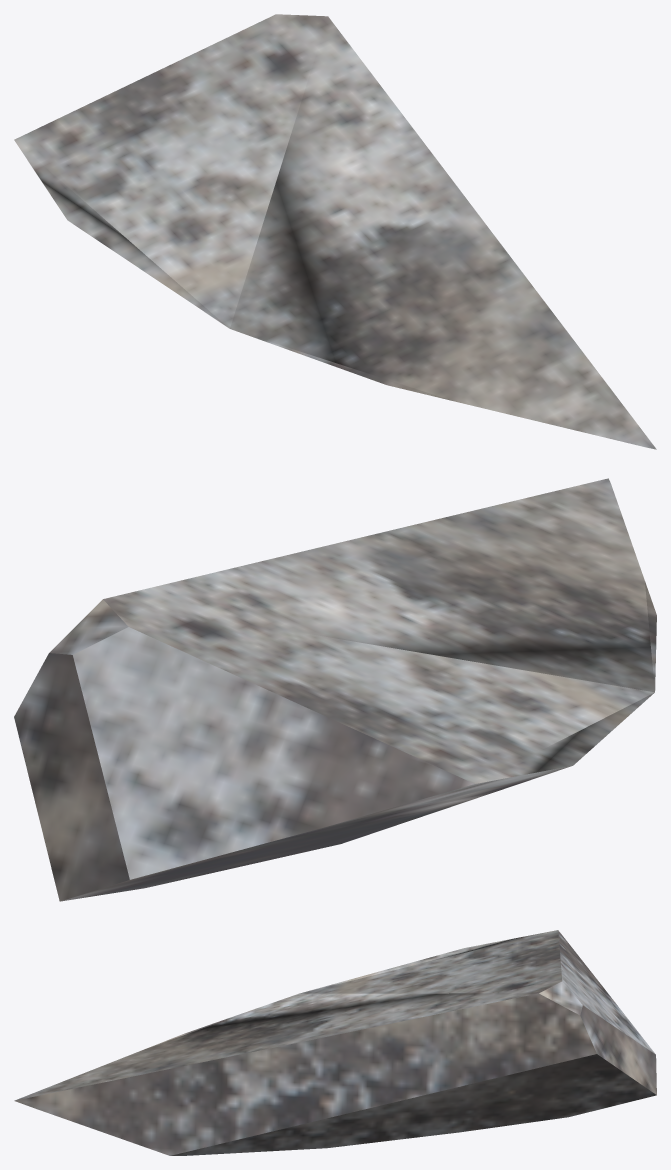
The model's file is Asteroid_Large_001_02_012_03_003.fbx.
3 views of the same model, one above another, from view 1: azimuth 30°, elevation 25°; view 2: azimuth 150°, elevation 25°; view 3: azimuth 270°, elevation 25° (orthographic). The views are drawn at different scales.
Visible parts, largest first — view 1: Asteroid_Large_001_02_012_03_003; view 2: Asteroid_Large_001_02_012_03_003; view 3: Asteroid_Large_001_02_012_03_003.
Part boxes in pixels (left/top/right/bottom): Asteroid_Large_001_02_012_03_003: left=14, top=14, right=656, bottom=449; Asteroid_Large_001_02_012_03_003: left=14, top=478, right=656, bottom=901; Asteroid_Large_001_02_012_03_003: left=14, top=930, right=656, bottom=1155.
Size of the model in its own units: 2.86 by 1.81 by 6.41.
